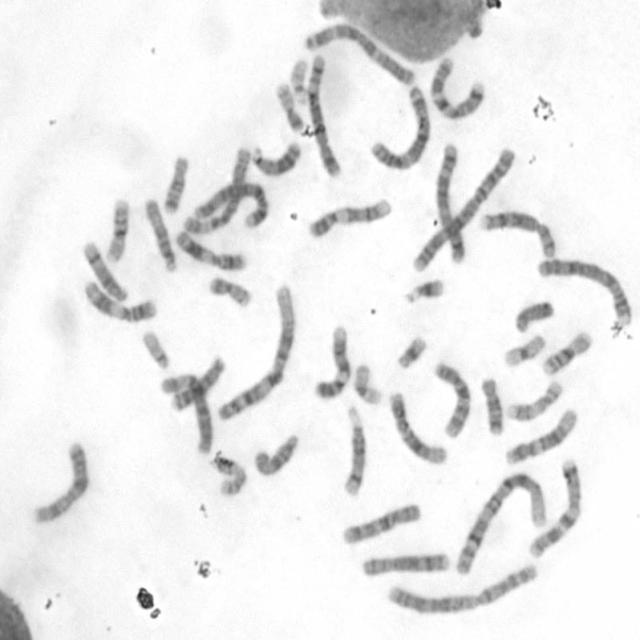A1: (216, 283, 295, 424), (456, 470, 550, 578)
A2: (408, 142, 517, 278), (385, 562, 539, 617)
A3: (303, 22, 415, 86), (370, 82, 432, 174)
B4: (535, 255, 633, 327), (192, 182, 268, 228)
B5: (306, 52, 342, 177), (436, 144, 468, 264)
C10: (342, 502, 424, 545), (432, 360, 472, 440)
C11: (172, 227, 247, 273), (83, 277, 158, 322)
C12: (385, 391, 449, 467), (502, 406, 578, 466)
C6: (182, 144, 252, 235), (156, 371, 212, 456)
C7: (525, 459, 583, 560), (431, 56, 485, 120)
C8: (479, 212, 556, 260), (360, 550, 451, 578)
C9: (308, 197, 393, 241), (312, 325, 350, 402)
D13: (168, 353, 227, 413), (251, 139, 302, 178)
D14: (81, 237, 128, 302), (343, 407, 368, 499)
D15: (144, 196, 177, 273), (252, 434, 300, 478)
E16: (538, 331, 594, 377), (104, 198, 131, 264)
E17: (505, 380, 563, 424), (213, 454, 247, 498)
E18: (161, 152, 190, 216), (478, 375, 506, 438)
F19: (504, 333, 545, 368), (354, 362, 384, 409)
F20: (275, 80, 304, 132), (208, 278, 251, 310)
G21: (394, 333, 430, 373), (402, 276, 445, 308)
G22: (288, 56, 312, 106), (140, 330, 170, 369)
X: (28, 441, 90, 526)
Y: (512, 299, 555, 336)
